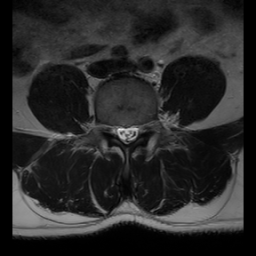CCS_normal: (123, 120, 130, 152)
LFS_normal: (138, 116, 147, 138)
LLS_normal: (131, 121, 138, 146)
RFS_normal: (108, 118, 116, 141)
RLS_normal: (116, 119, 123, 145)
